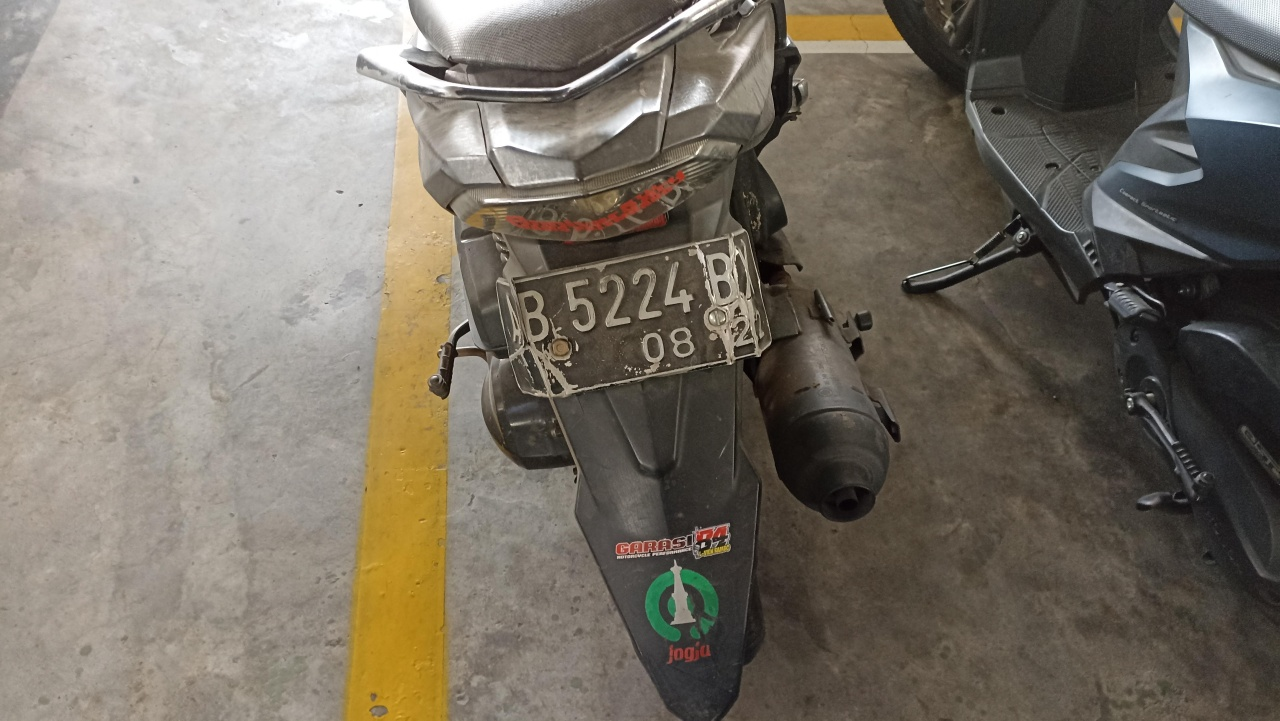plate: (496, 228, 773, 397)
